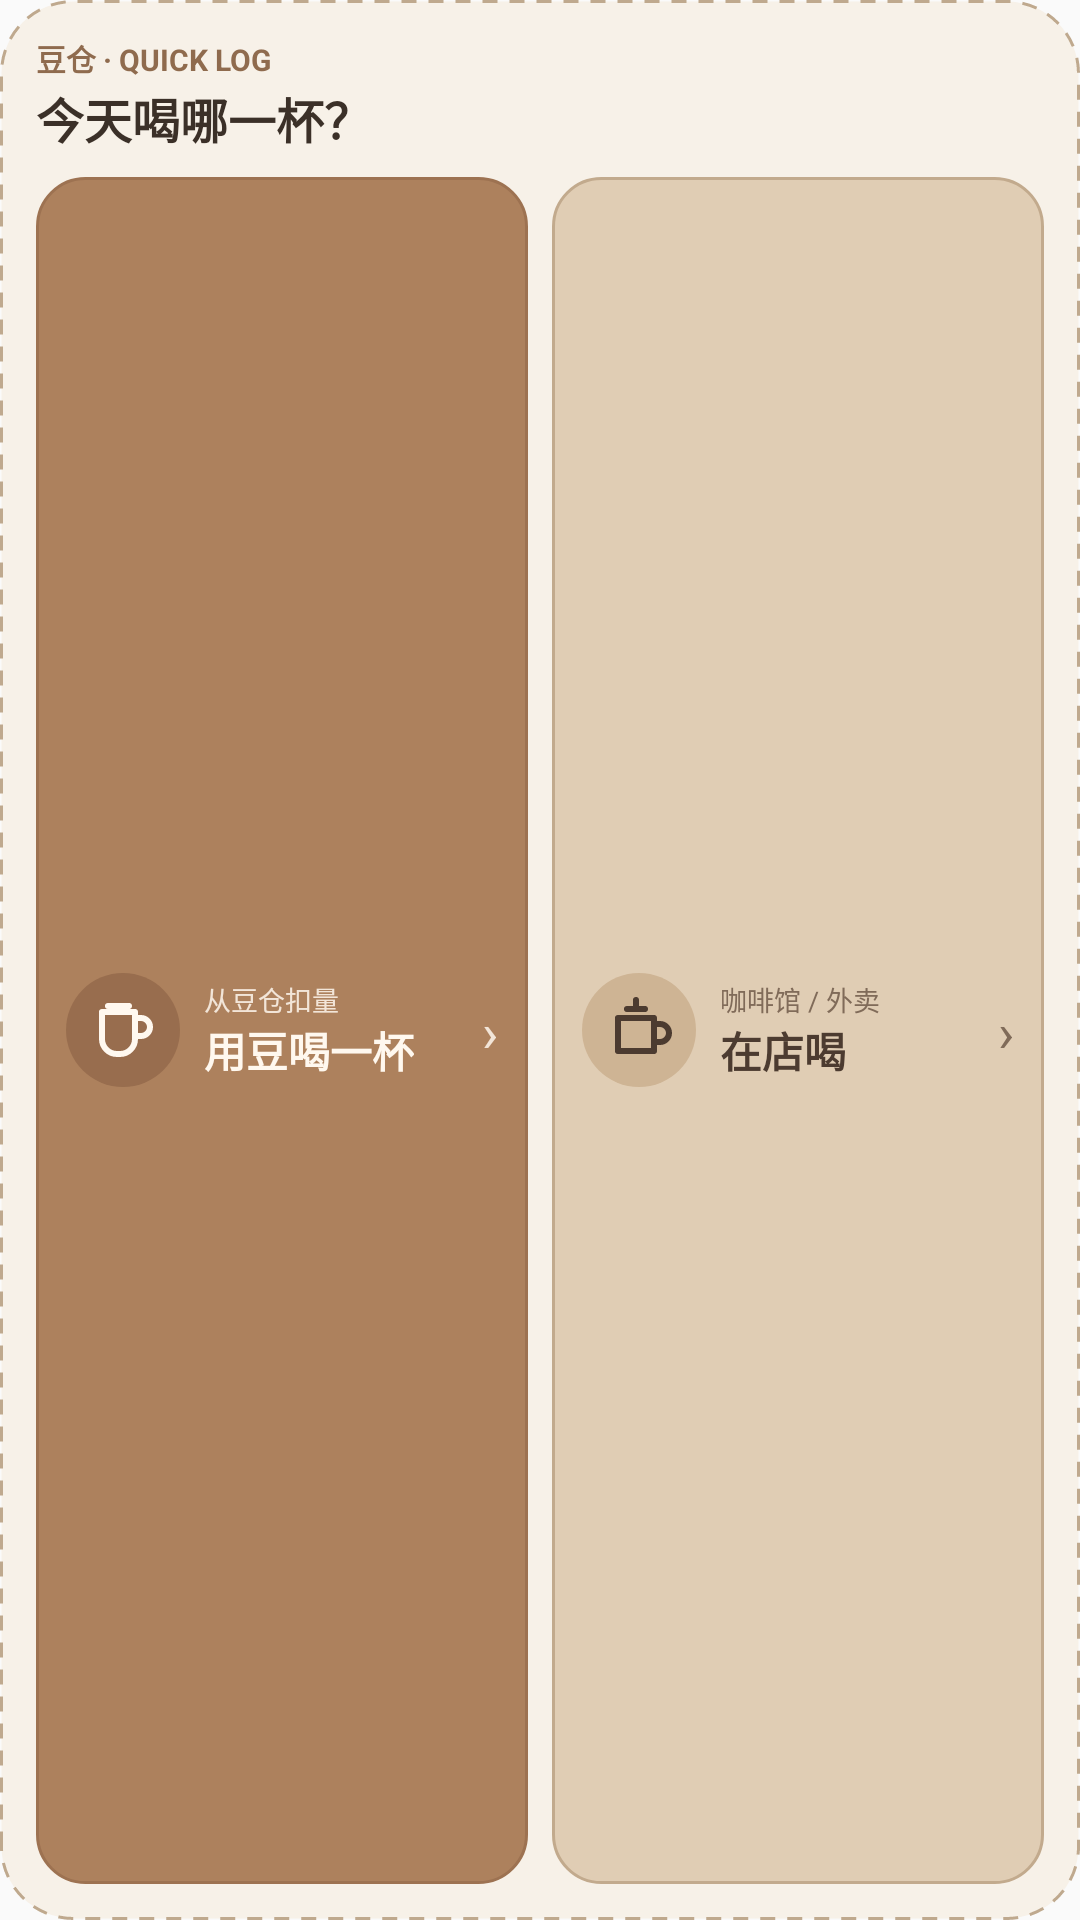

Icon bounding boxes for this 1080 x 1920 phone screenshot, format (x1,y1,x2,y2):
widget cafe: (615,997,672,1054)
widget cup: (99,1003,153,1057)
